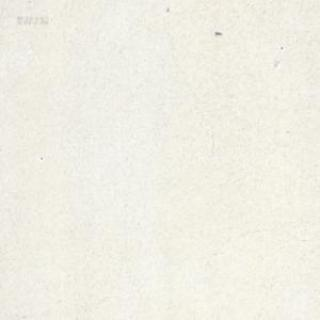Nailtrack_idkeyframe: (214, 29, 221, 34)
